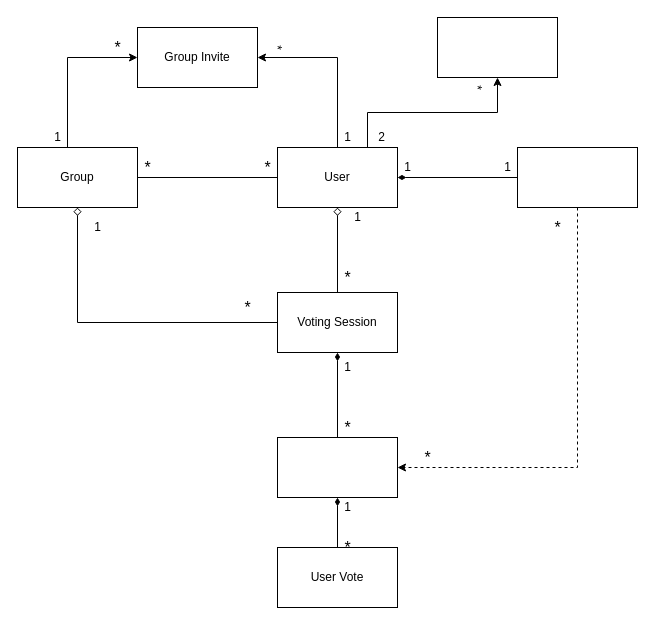
The diagram is 655 pixels wide and 625 high, and some of its shapes have lost their labels. The shapes that lost their labels are listed below. From the top down, each one's centre as x and y in pixels, then its label:
At pixel 497 47: "Friend Invite".
At pixel 577 177: "Preference".
At pixel 337 467: "Recommendation".
